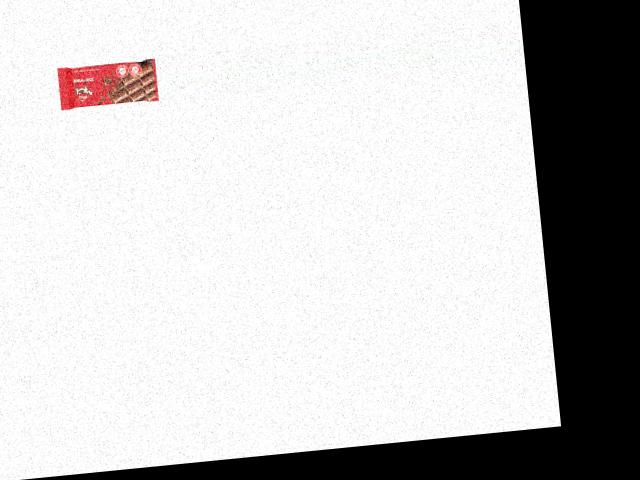chocolate: (55, 58, 158, 110)
